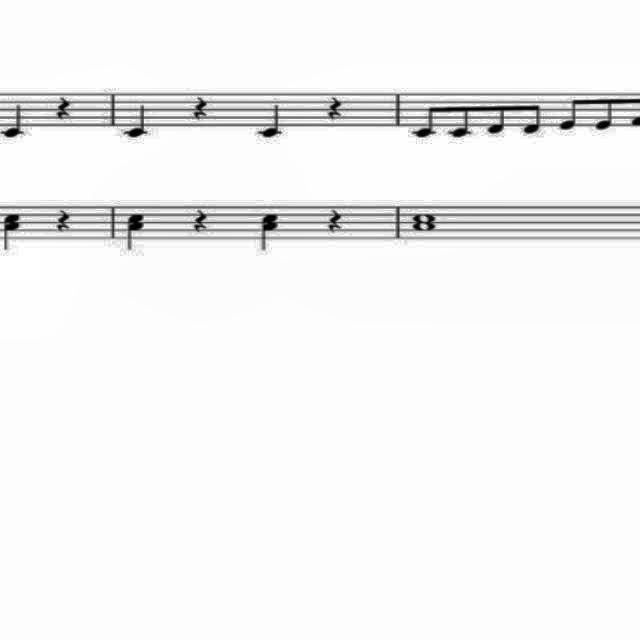Eighth-note: (406, 88, 440, 144), (590, 82, 618, 142), (557, 78, 583, 138), (479, 90, 508, 142), (447, 96, 473, 152), (519, 93, 547, 137)
Quarter-note: (118, 101, 154, 143), (256, 100, 292, 140), (0, 102, 32, 142)
Quarter-rest: (190, 90, 213, 124), (322, 92, 346, 122), (52, 203, 76, 233), (322, 204, 346, 232), (192, 202, 212, 234), (54, 94, 72, 126)
